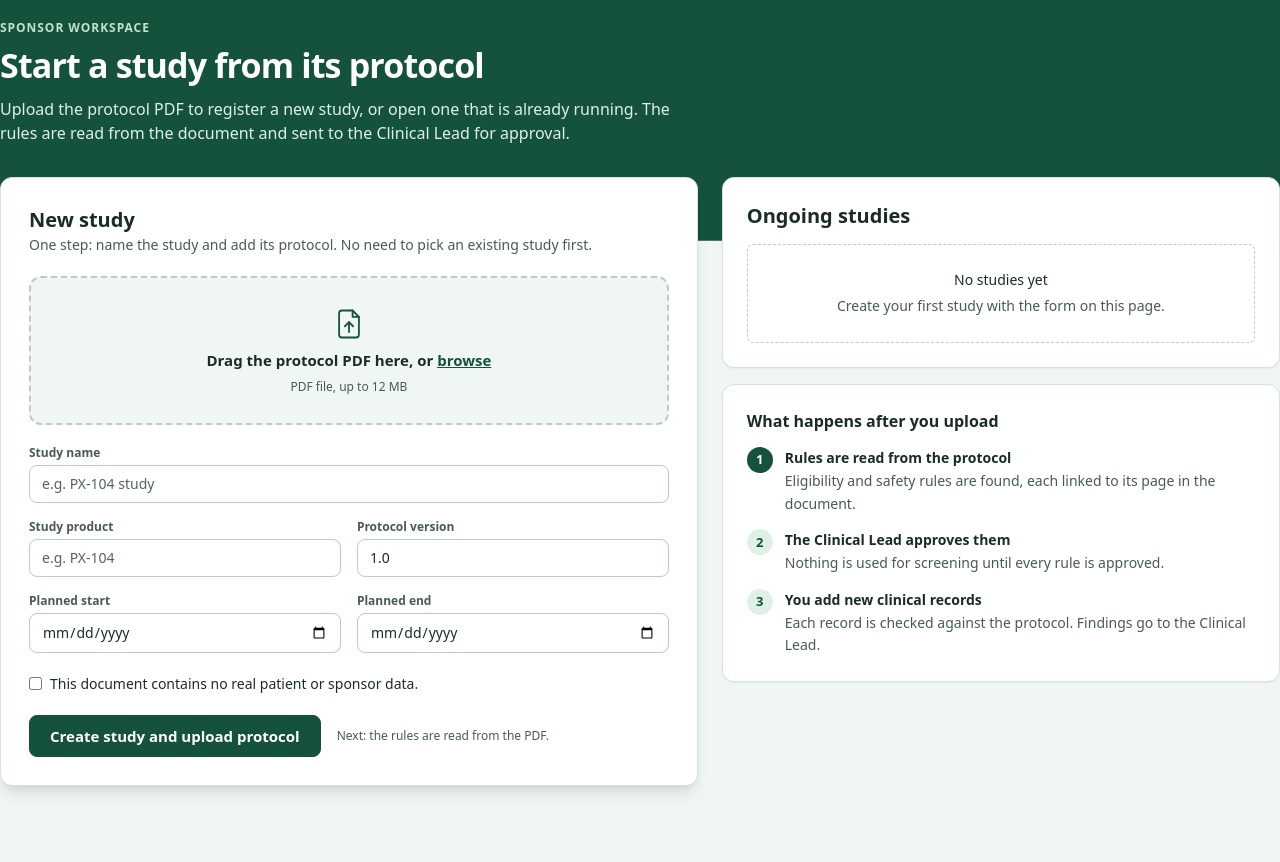
landing page and study selection › creates a study and uploads its protocol in one step, then opens the protocol
The image size is (1280, 862).
Later steps or results of the test are not shown.
Click the button "Create study and upload protocol": click(175, 736) [29,715,321,757]
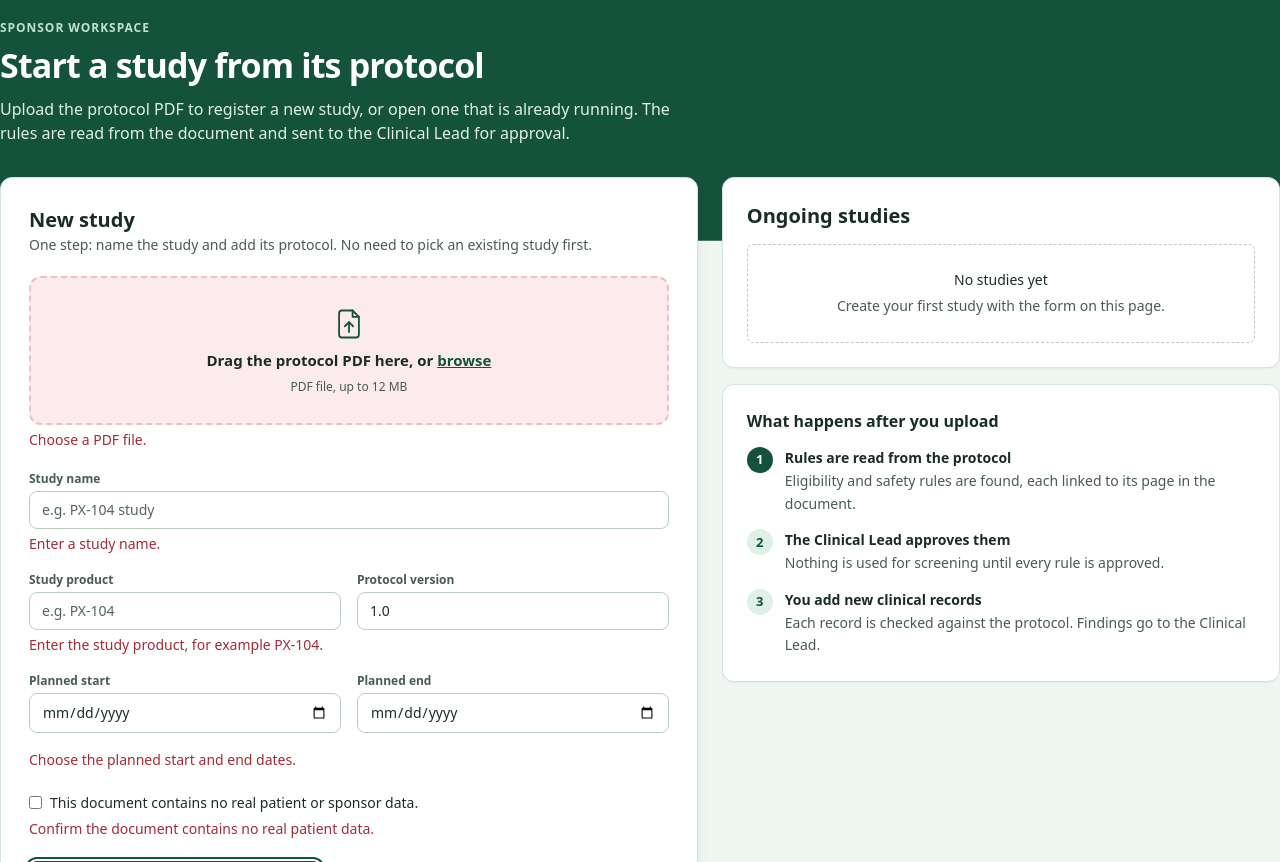
Now the text "Choose a PDF file." is shown, box [29,430,146,449]
